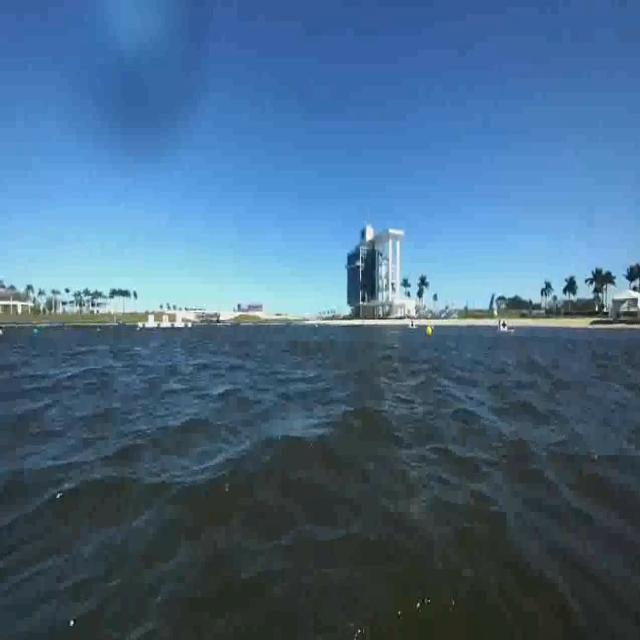yellow-buoy: (426, 325, 433, 337)
